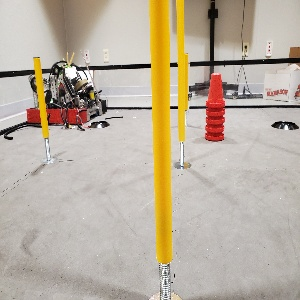Red_5: (204, 73, 224, 141)
